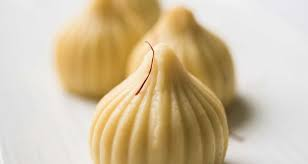modak: (83, 38, 229, 164), (130, 5, 251, 106)
